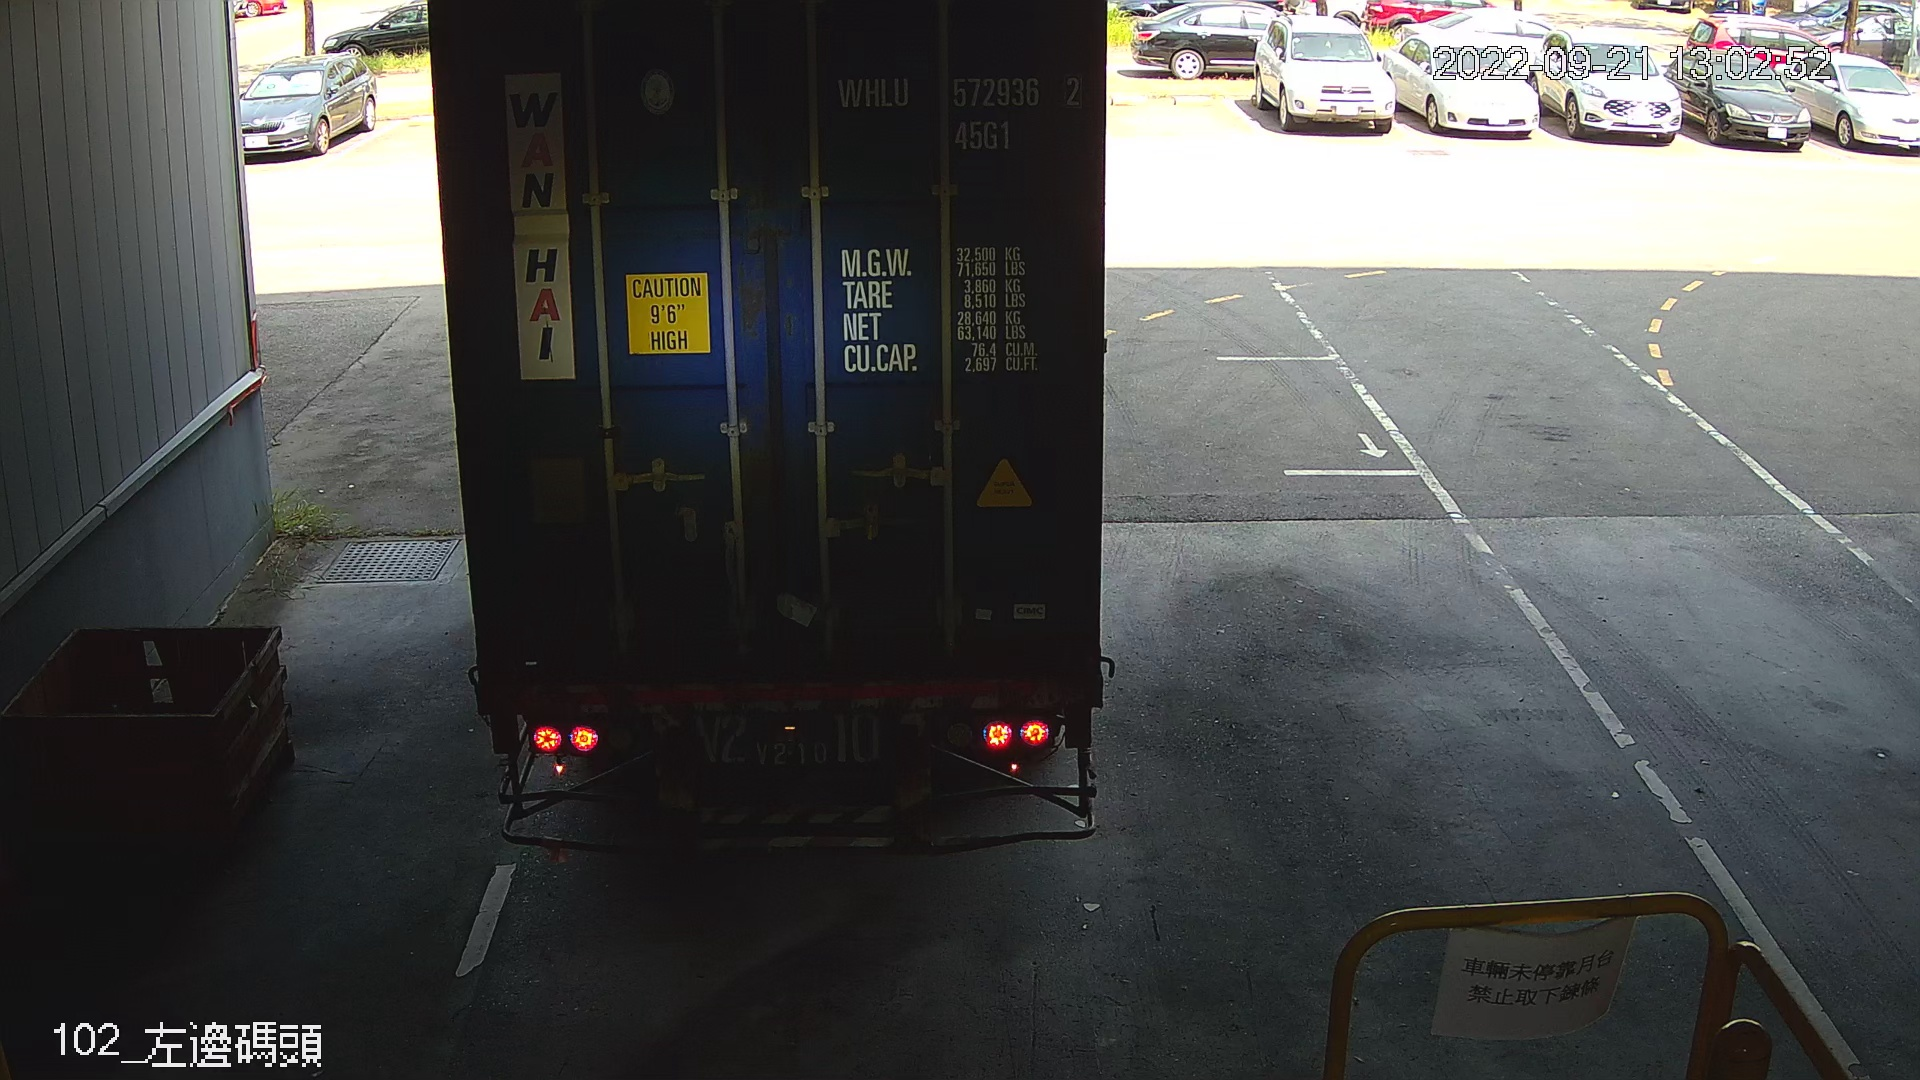container: (825, 65, 1087, 157)
